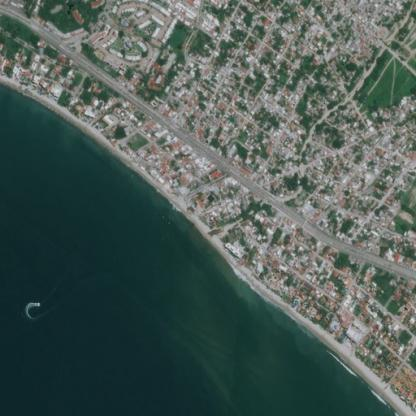ship: (34, 302, 39, 305)
